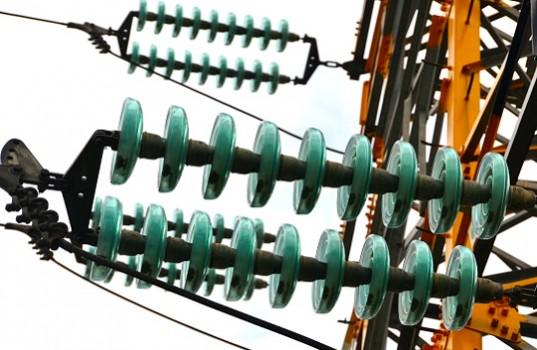isolator: (89, 97, 511, 329), (127, 1, 289, 94)
